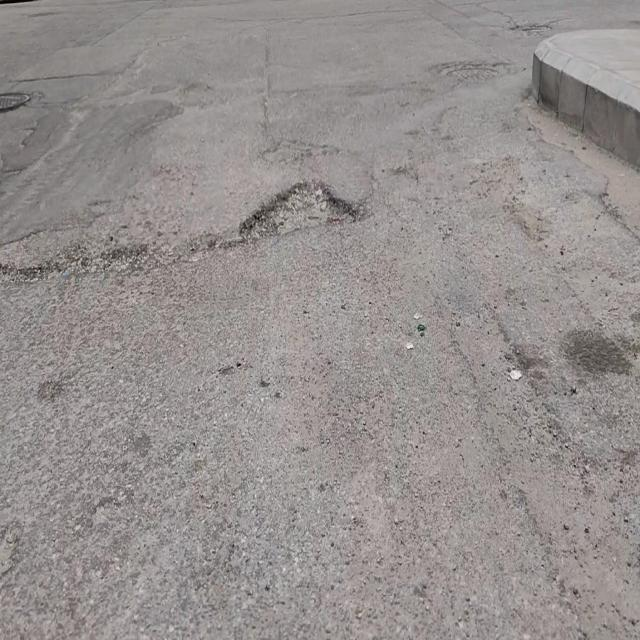Potholes: (239, 173, 360, 246)
